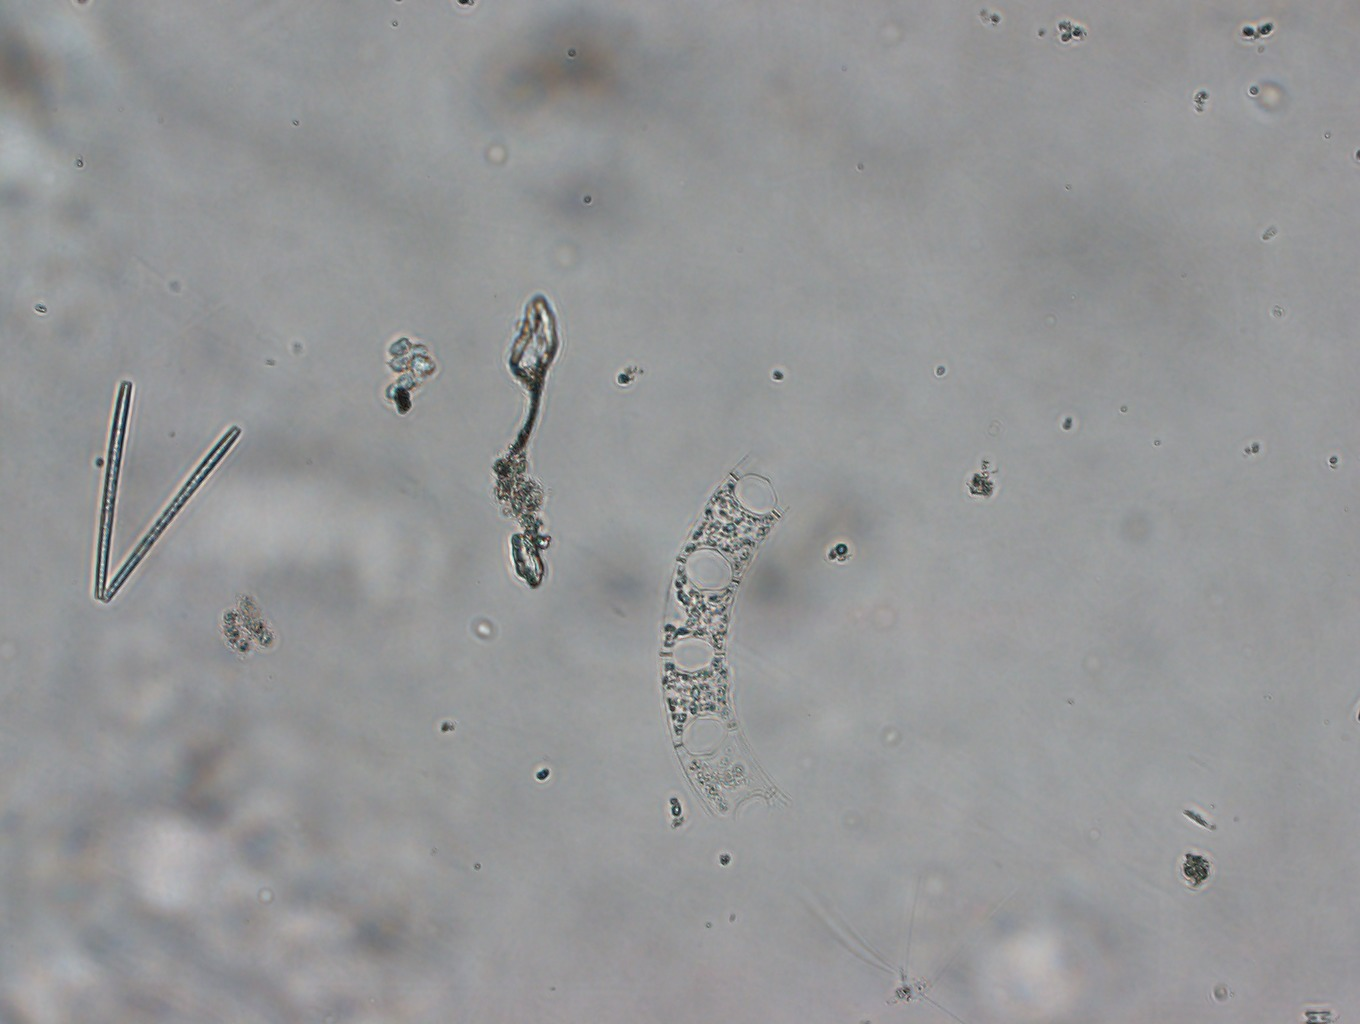eucampia: (653, 433, 806, 844)
thalassionema nitzschioides: (83, 362, 247, 612)
